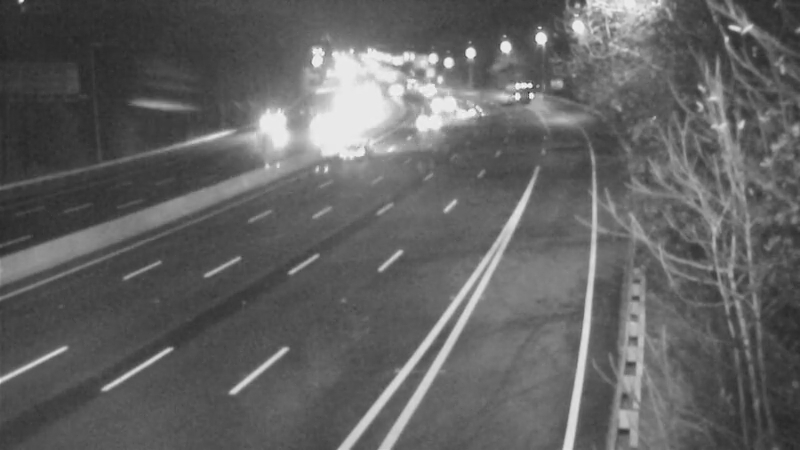vehicle: (494, 64, 544, 114), (418, 81, 468, 131), (444, 91, 494, 141), (406, 92, 456, 142), (324, 125, 374, 175), (250, 98, 300, 148), (297, 102, 347, 152)
